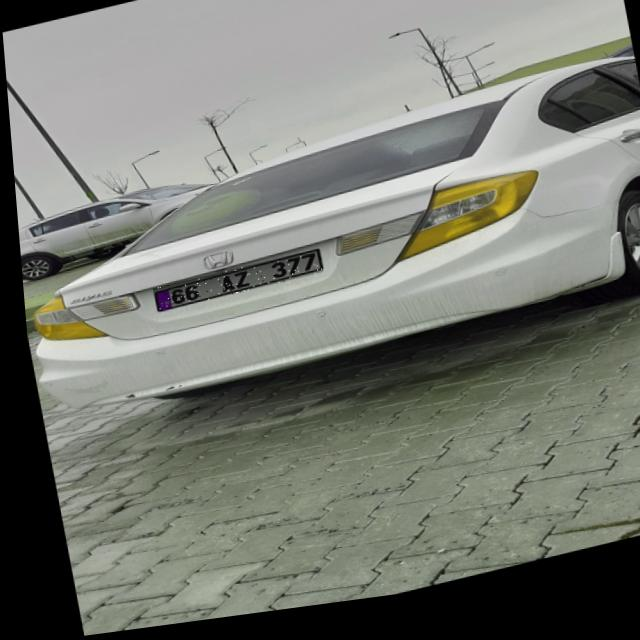license_plate: (145, 256, 319, 315)
